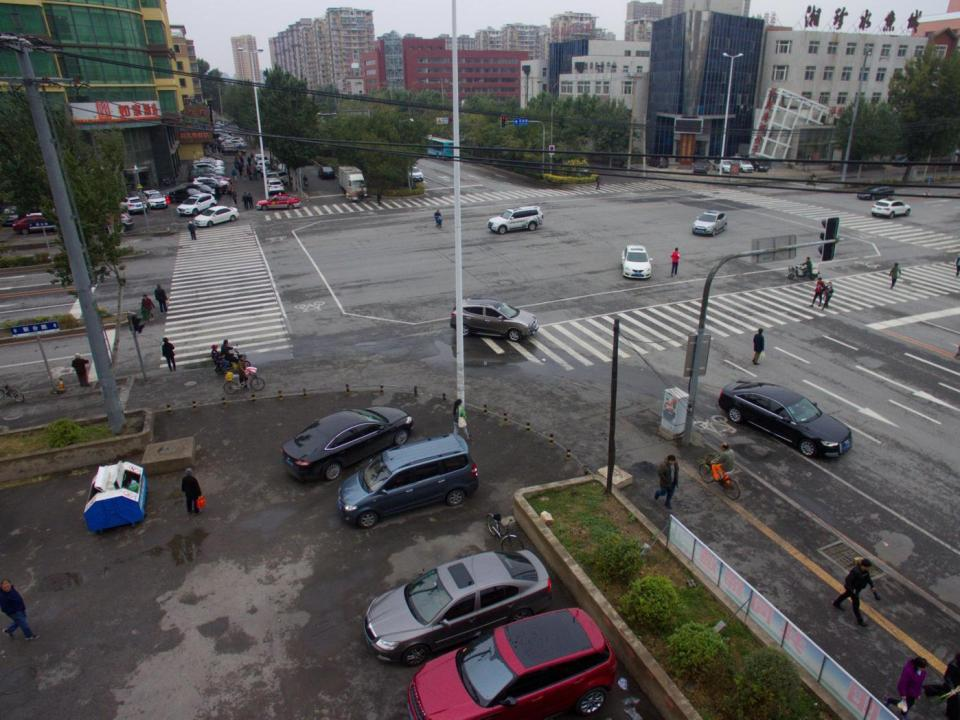bus: (412, 132, 460, 160)
car: (409, 606, 616, 718), (362, 548, 551, 668), (336, 436, 480, 528), (718, 378, 854, 461), (276, 406, 416, 485), (450, 296, 537, 342), (620, 243, 654, 280), (11, 212, 57, 238), (176, 192, 218, 217), (691, 210, 728, 238), (871, 197, 912, 220), (194, 205, 240, 225), (96, 211, 135, 232), (256, 193, 301, 211), (855, 185, 895, 200), (118, 194, 148, 214), (192, 178, 234, 192), (169, 188, 207, 202), (142, 190, 166, 210), (1, 203, 19, 229), (192, 162, 228, 175), (186, 185, 221, 198), (403, 163, 423, 184), (191, 157, 223, 170), (190, 167, 224, 179), (192, 159, 225, 171), (731, 156, 755, 172), (266, 170, 290, 185), (266, 178, 286, 195), (207, 176, 234, 188), (198, 182, 227, 193), (713, 159, 734, 174), (221, 145, 245, 156), (895, 155, 919, 166), (318, 166, 335, 181), (193, 174, 221, 183), (220, 141, 242, 152), (227, 137, 249, 148), (693, 160, 710, 173), (258, 161, 274, 174), (749, 160, 769, 170), (215, 130, 234, 137), (257, 155, 270, 164), (254, 153, 264, 164), (218, 135, 236, 141), (214, 120, 225, 128)
truck: (337, 166, 369, 194)
van: (487, 206, 543, 234), (646, 154, 670, 168)
